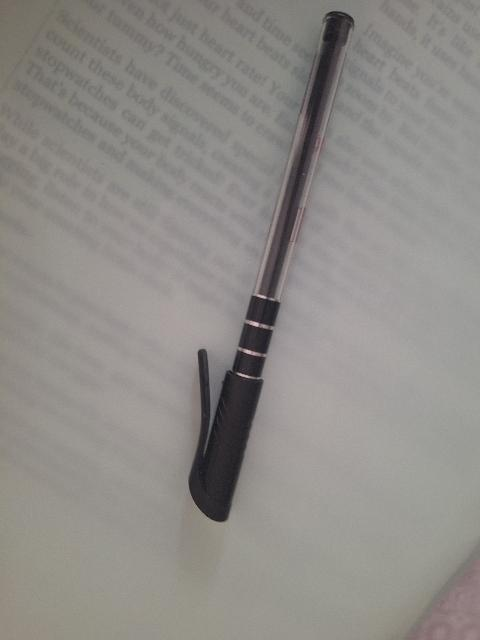writing_tool: (182, 9, 357, 525)
